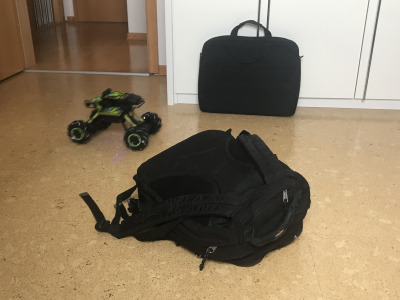remote control car: (65, 87, 163, 153)
